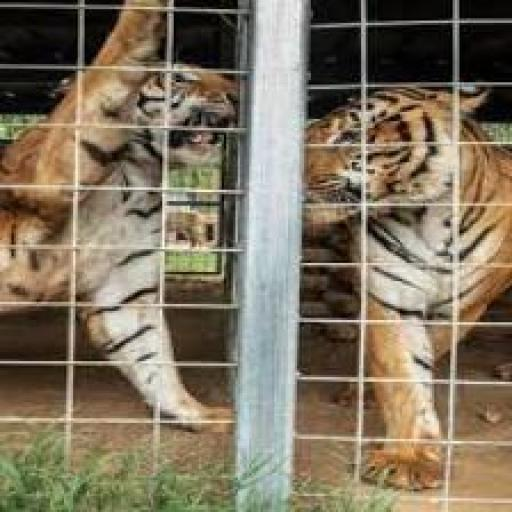Tiger: (306, 64, 503, 494), (55, 25, 240, 441)
